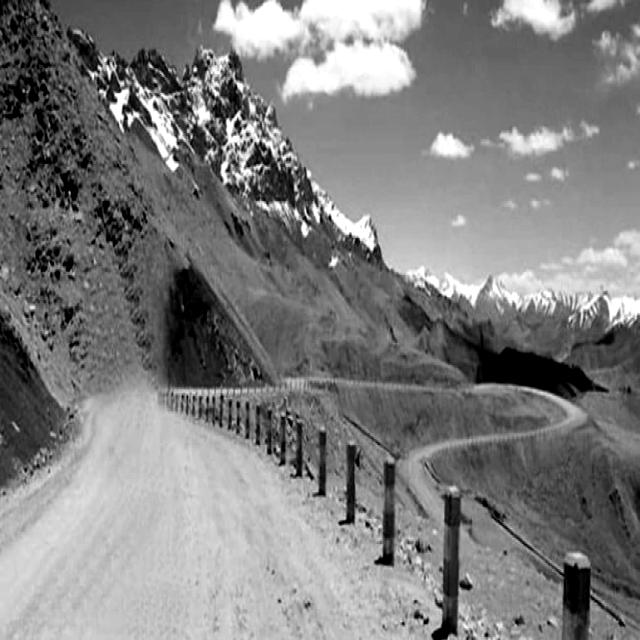cleat: (65, 337, 366, 640)
